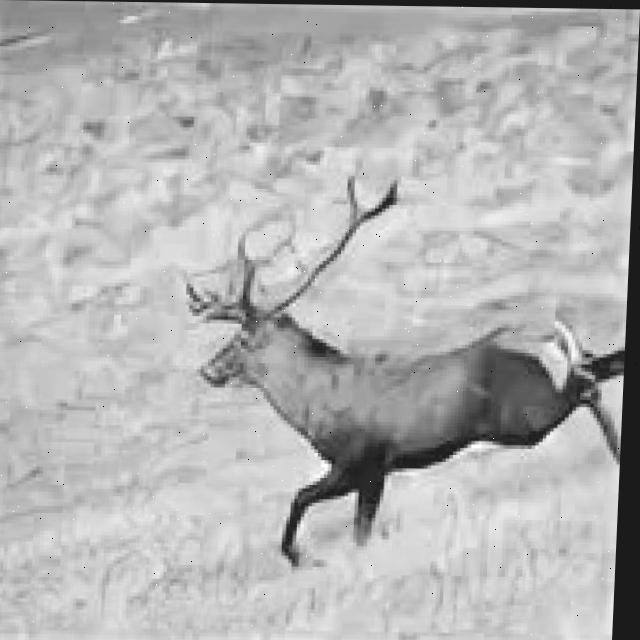Deer: (192, 218, 629, 619)
